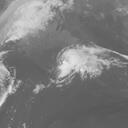cyclone: (58, 46, 104, 85)
